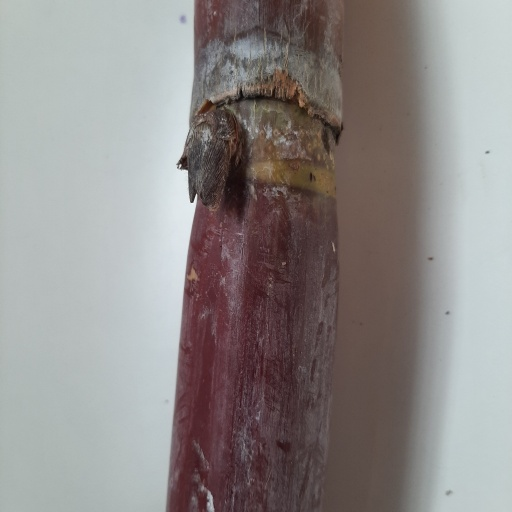Bud: (186, 108, 234, 210)
